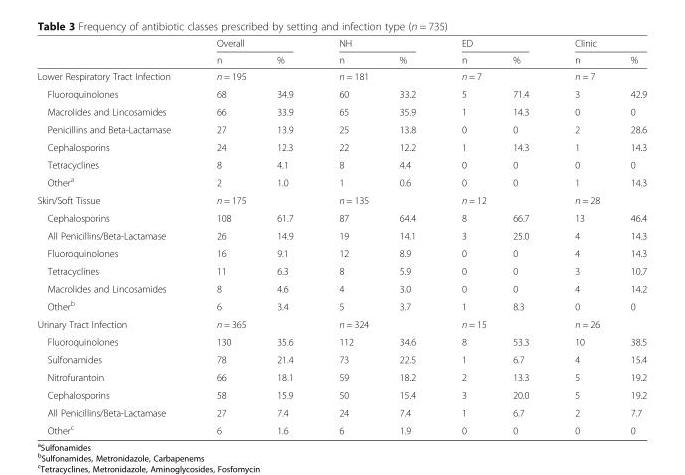table: (36, 37, 646, 435)
table column: (36, 37, 192, 435), (253, 37, 315, 435), (375, 37, 437, 435), (489, 37, 551, 435), (192, 37, 253, 435), (315, 37, 375, 435), (551, 37, 606, 435), (437, 37, 489, 435), (606, 37, 646, 435)
table column header: (36, 37, 646, 67)
table row: (36, 172, 646, 191), (36, 84, 646, 102), (36, 102, 646, 120), (36, 137, 646, 155), (36, 208, 646, 226), (36, 226, 646, 244), (36, 261, 646, 279), (36, 296, 646, 314), (36, 314, 646, 332), (36, 332, 646, 350), (36, 350, 646, 368), (36, 385, 646, 403), (36, 67, 646, 84), (36, 120, 646, 137), (36, 155, 646, 172), (36, 191, 646, 208), (36, 244, 646, 261), (36, 279, 646, 296), (36, 368, 646, 385), (36, 403, 646, 420), (36, 51, 646, 67), (36, 420, 646, 435), (36, 37, 646, 51)
table spanning cell: (192, 314, 315, 332), (315, 314, 437, 332), (192, 67, 315, 84), (192, 191, 315, 208), (315, 67, 437, 84), (315, 191, 437, 208), (437, 314, 551, 332), (437, 67, 551, 84), (437, 191, 551, 208), (192, 37, 315, 51), (551, 314, 646, 332), (315, 37, 437, 51), (551, 67, 646, 84), (551, 191, 646, 208), (437, 37, 551, 51), (551, 37, 646, 51)
